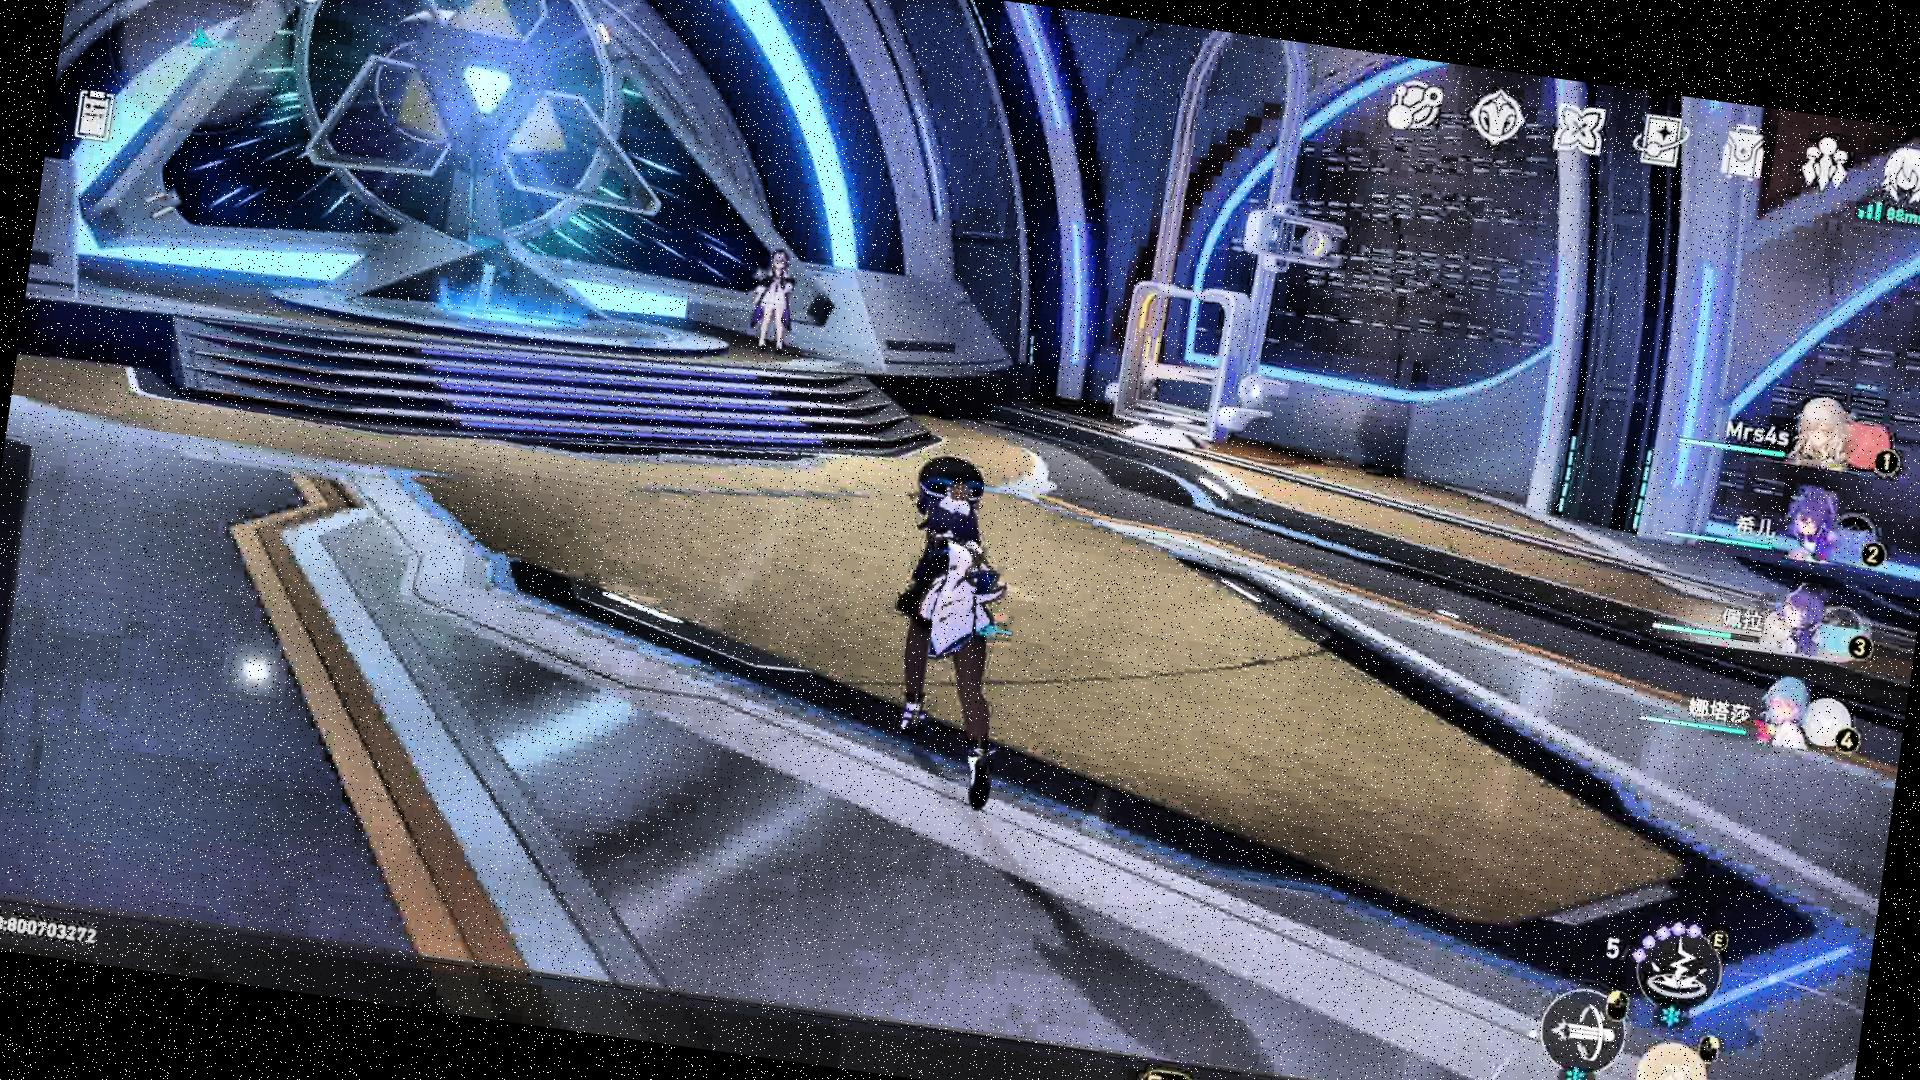Self: (862, 447, 1048, 822)
TeamMate: (744, 248, 807, 361)
